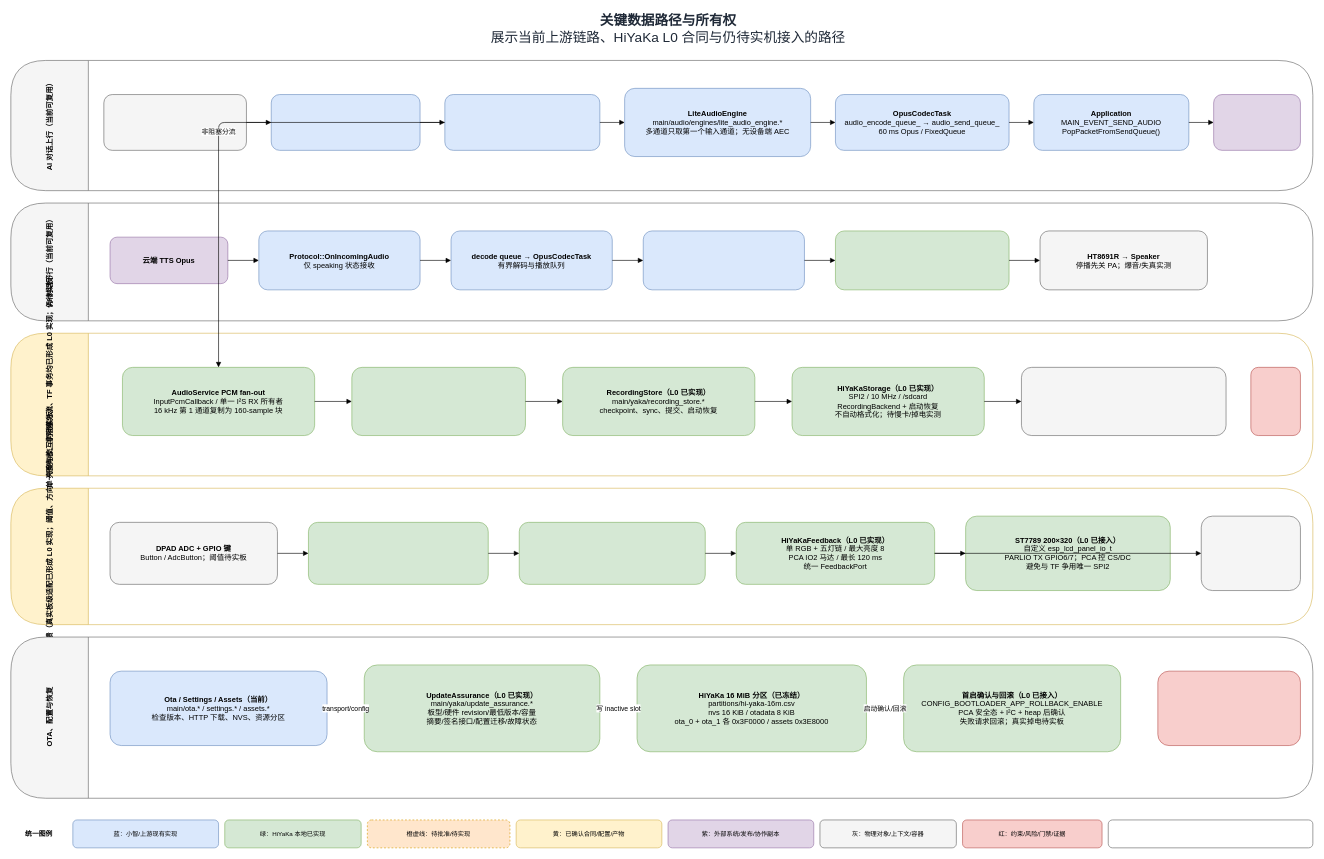
Some shapes in this 1324 by 859 pixel diagram are drawn without their labels. The centre of each missing label's shape, as x and y in pixels:
AudioCodec main/audio/audio_codec.* InputData() / input_channels(): (x=345, y=122)
AudioInputTask 10 ms PCM；唯一采集所有者 main/audio/audio_service.cc: (x=522, y=122)
AudioOutputTask 播放进度 / drained 回调: (x=723, y=260)
BoxAudioCodec（L0 已接入） ES8311 + ES7210 / I²C0 MIC1 + MIC3 候选映射；待 L1/L2: (x=922, y=260)
ES7210 双麦 + 播放参考 I²S RX；slot 必须实测: (x=174, y=122)
HiYaKaInput（L0 已实现） 20 ms 轮询 / 3-sample 去抖 ADC 六键 + GPIO 两键 / 短长按 阈值为原理图候选: (x=398, y=553)
MASTER_SW 硬切 启动恢复/半文件识别 随机掉电必须实板验证: (x=1275, y=401)
ProductController（L0 已实现） 需求状态与动作门禁 CapabilityHealth 决定可用/降级: (x=612, y=553)
Protocol → 云端 MQTT/UDP 或 WebSocket: (x=1256, y=122)
RGB / 五灯 / ERM / 声音 状态补充，不代替必要文本 上电默认关闭: (x=1250, y=553)
TF / FatFS / SDSPI GPIO15/18/19/20；无 card-detect .part → fsync → rename → 文件索引: (x=1123, y=401)
发布门禁 签名/校验、包哈希、Git SHA、SDK、分区、硬件版本 坏包/断网/低电/硬切/回滚证据: (x=1228, y=708)
有界 RecorderQueue（L0） 容量 12；零等待写入 满载/写失败计数并禁止提交 不阻塞 audio_input: (x=438, y=401)
线型：实线=当前/已确认；虚线=计划关系: (x=1210, y=833)
